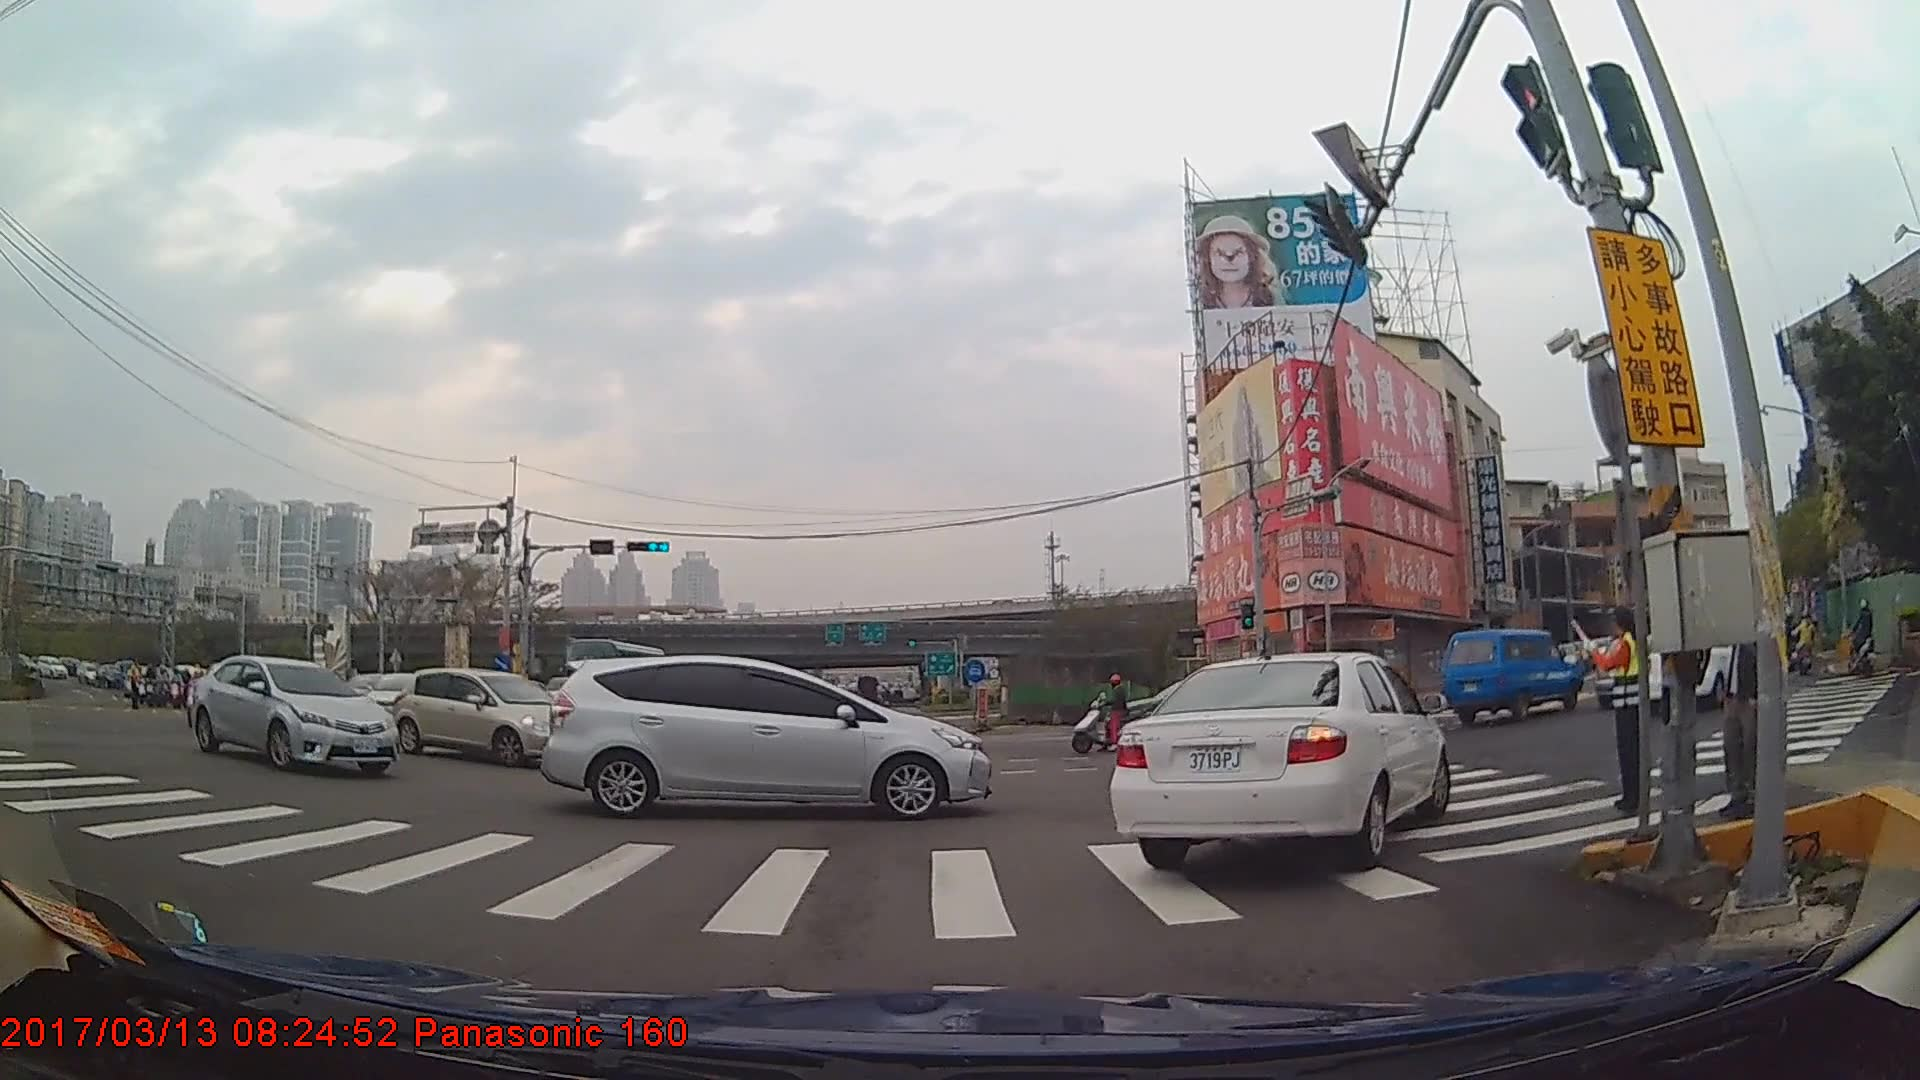pedestrian: (1697, 540, 1785, 833), (1600, 611, 1655, 827)
rider: (1072, 670, 1156, 755), (1841, 596, 1880, 679), (1774, 607, 1800, 678), (1794, 607, 1817, 682)
vehicle: (536, 653, 989, 820), (1112, 645, 1447, 869), (189, 653, 399, 777), (390, 667, 577, 767), (1435, 626, 1582, 722)
